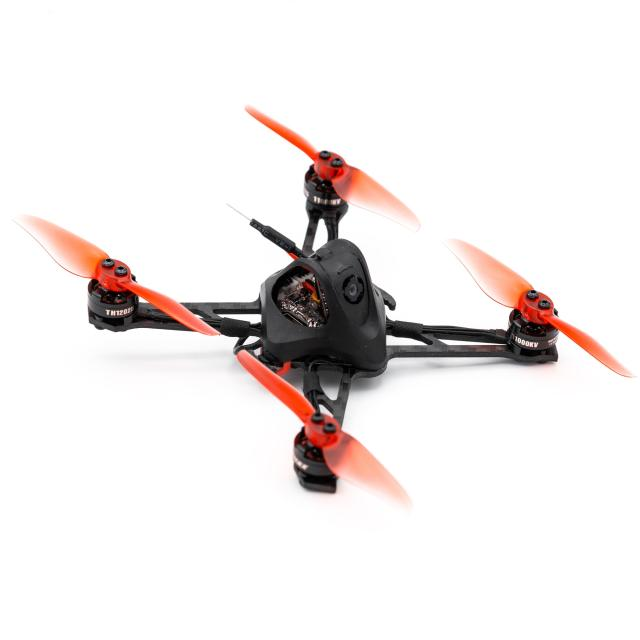drone: (9, 114, 636, 565)
